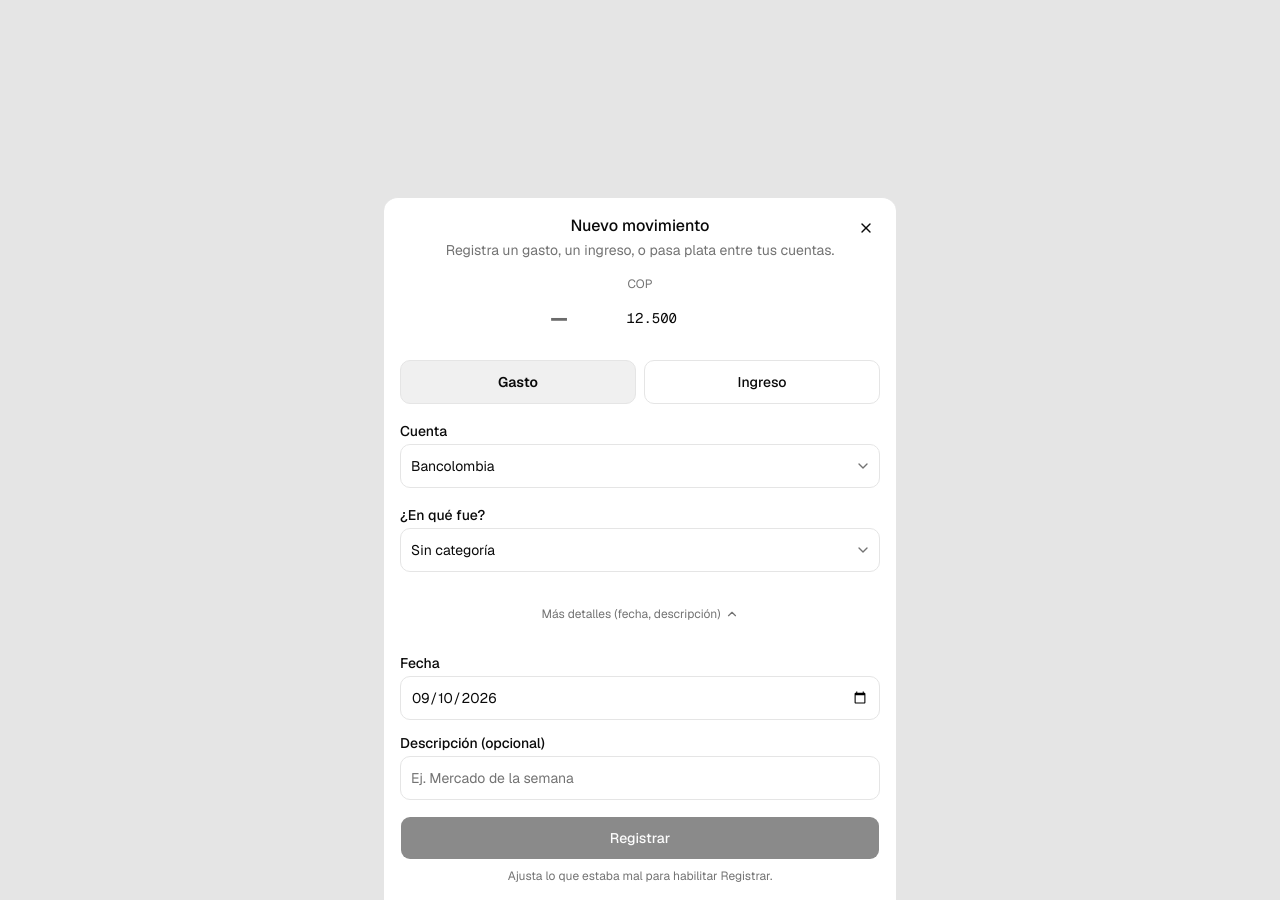
Test: FormularioMovimiento abierto desde afuera (corregir un movimiento) › cambiar el monto también habilita Registrar
Check: the button "Registrar" is disabled, box [400,816,880,860]
Step 1. Replace the text in the field named "Monto" with "13.000" → (652, 318), box [572,296,732,340]
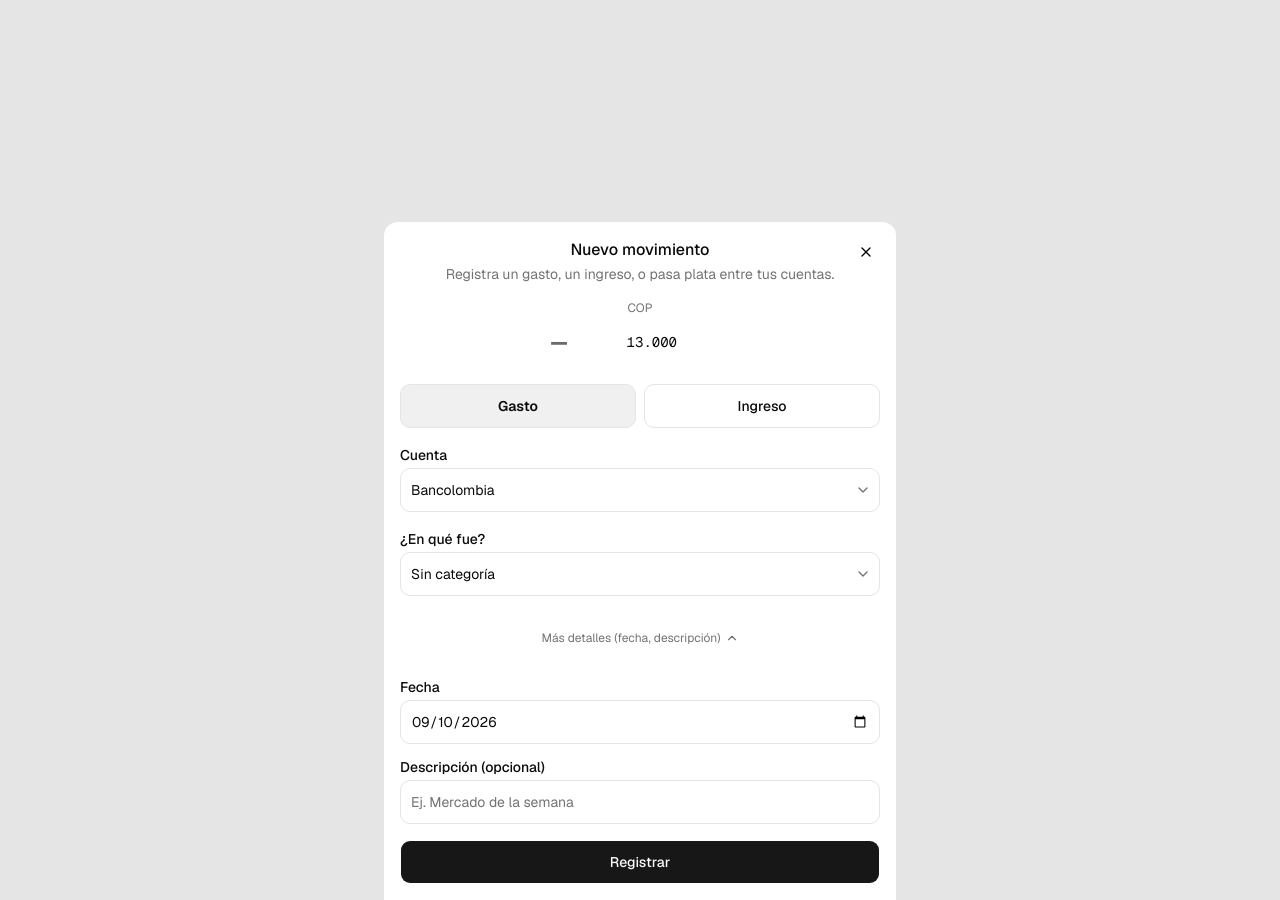
Check: the button "Registrar" is enabled, box [400,840,880,884]
